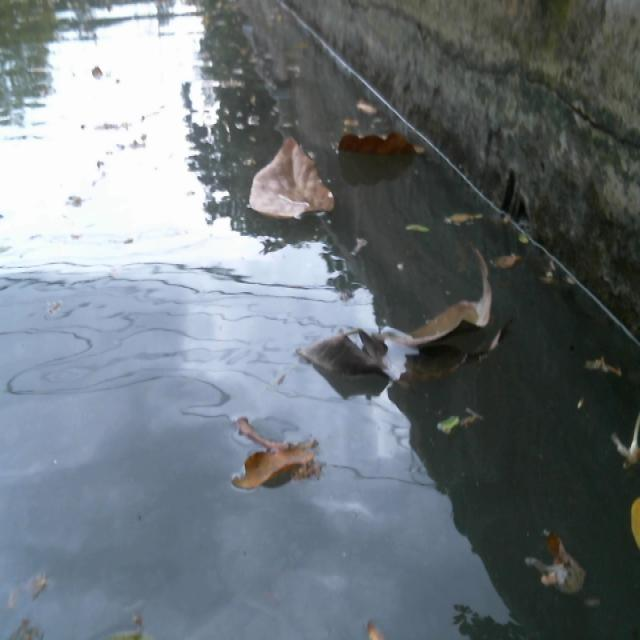Big-leaf: (296, 247, 498, 399), (222, 415, 338, 517), (248, 118, 338, 231), (332, 124, 435, 160)
Small-leaf: (519, 512, 598, 607), (391, 217, 451, 252), (420, 399, 466, 444), (435, 191, 487, 230), (582, 343, 624, 384), (540, 249, 570, 298), (345, 86, 385, 118), (496, 246, 538, 276), (627, 491, 640, 565), (362, 621, 398, 640)
